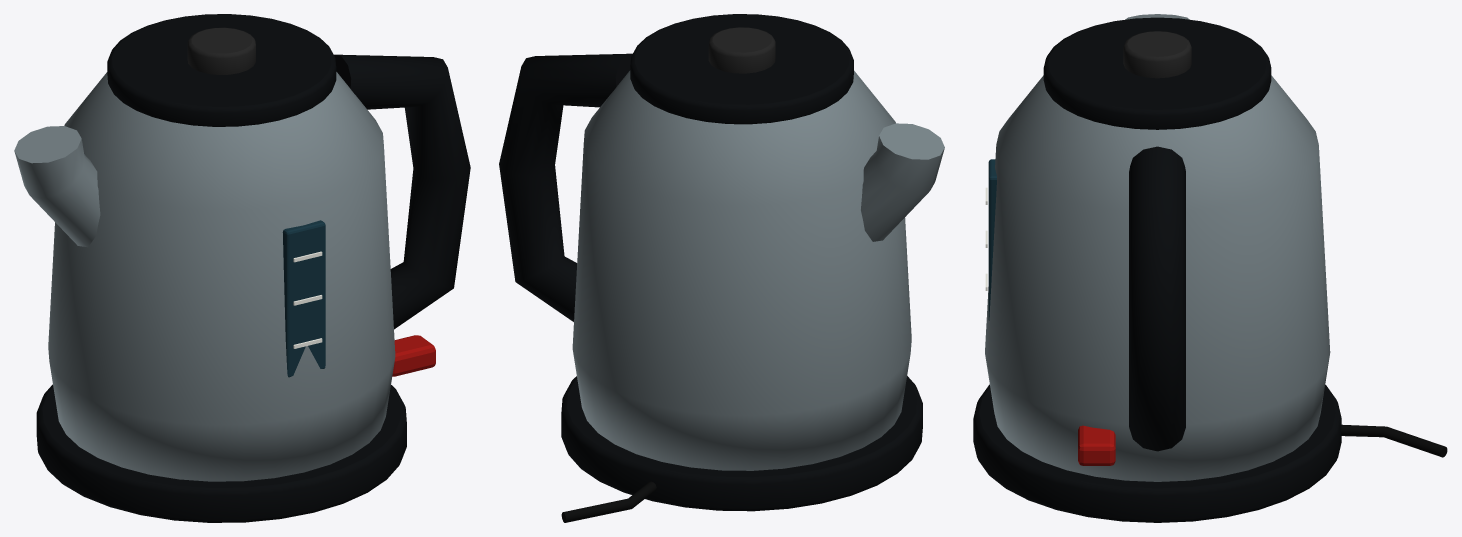
Rendered from OAA_Pantry_Ketel_Listrik.fbx.
3 renders of one model, left to right at view 1: azimuth 30°, elevation 25°; view 2: azimuth 150°, elevation 25°; view 3: azimuth 270°, elevation 25°, orthographic. The views are drawn at different scales.
Parts seen in each view (by area): view 1: Body; view 2: Body; view 3: Body.
Part boxes in pixels (box(x1,y1,x2,y2)): Body: box(14, 14, 470, 522); Body: box(499, 14, 944, 522); Body: box(973, 14, 1447, 522).
Size of the model in its own units: 0.2705 by 0.2345 by 0.2498.
